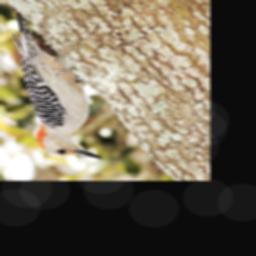Woodpecker: (4, 3, 105, 167)
